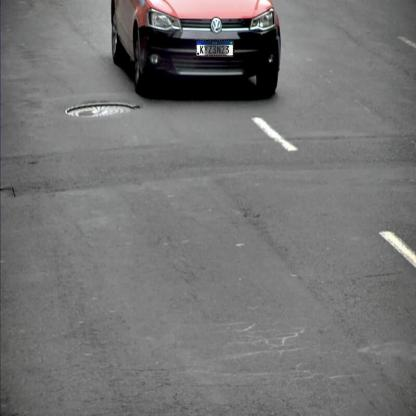PlacaM: (196, 40, 234, 56)
